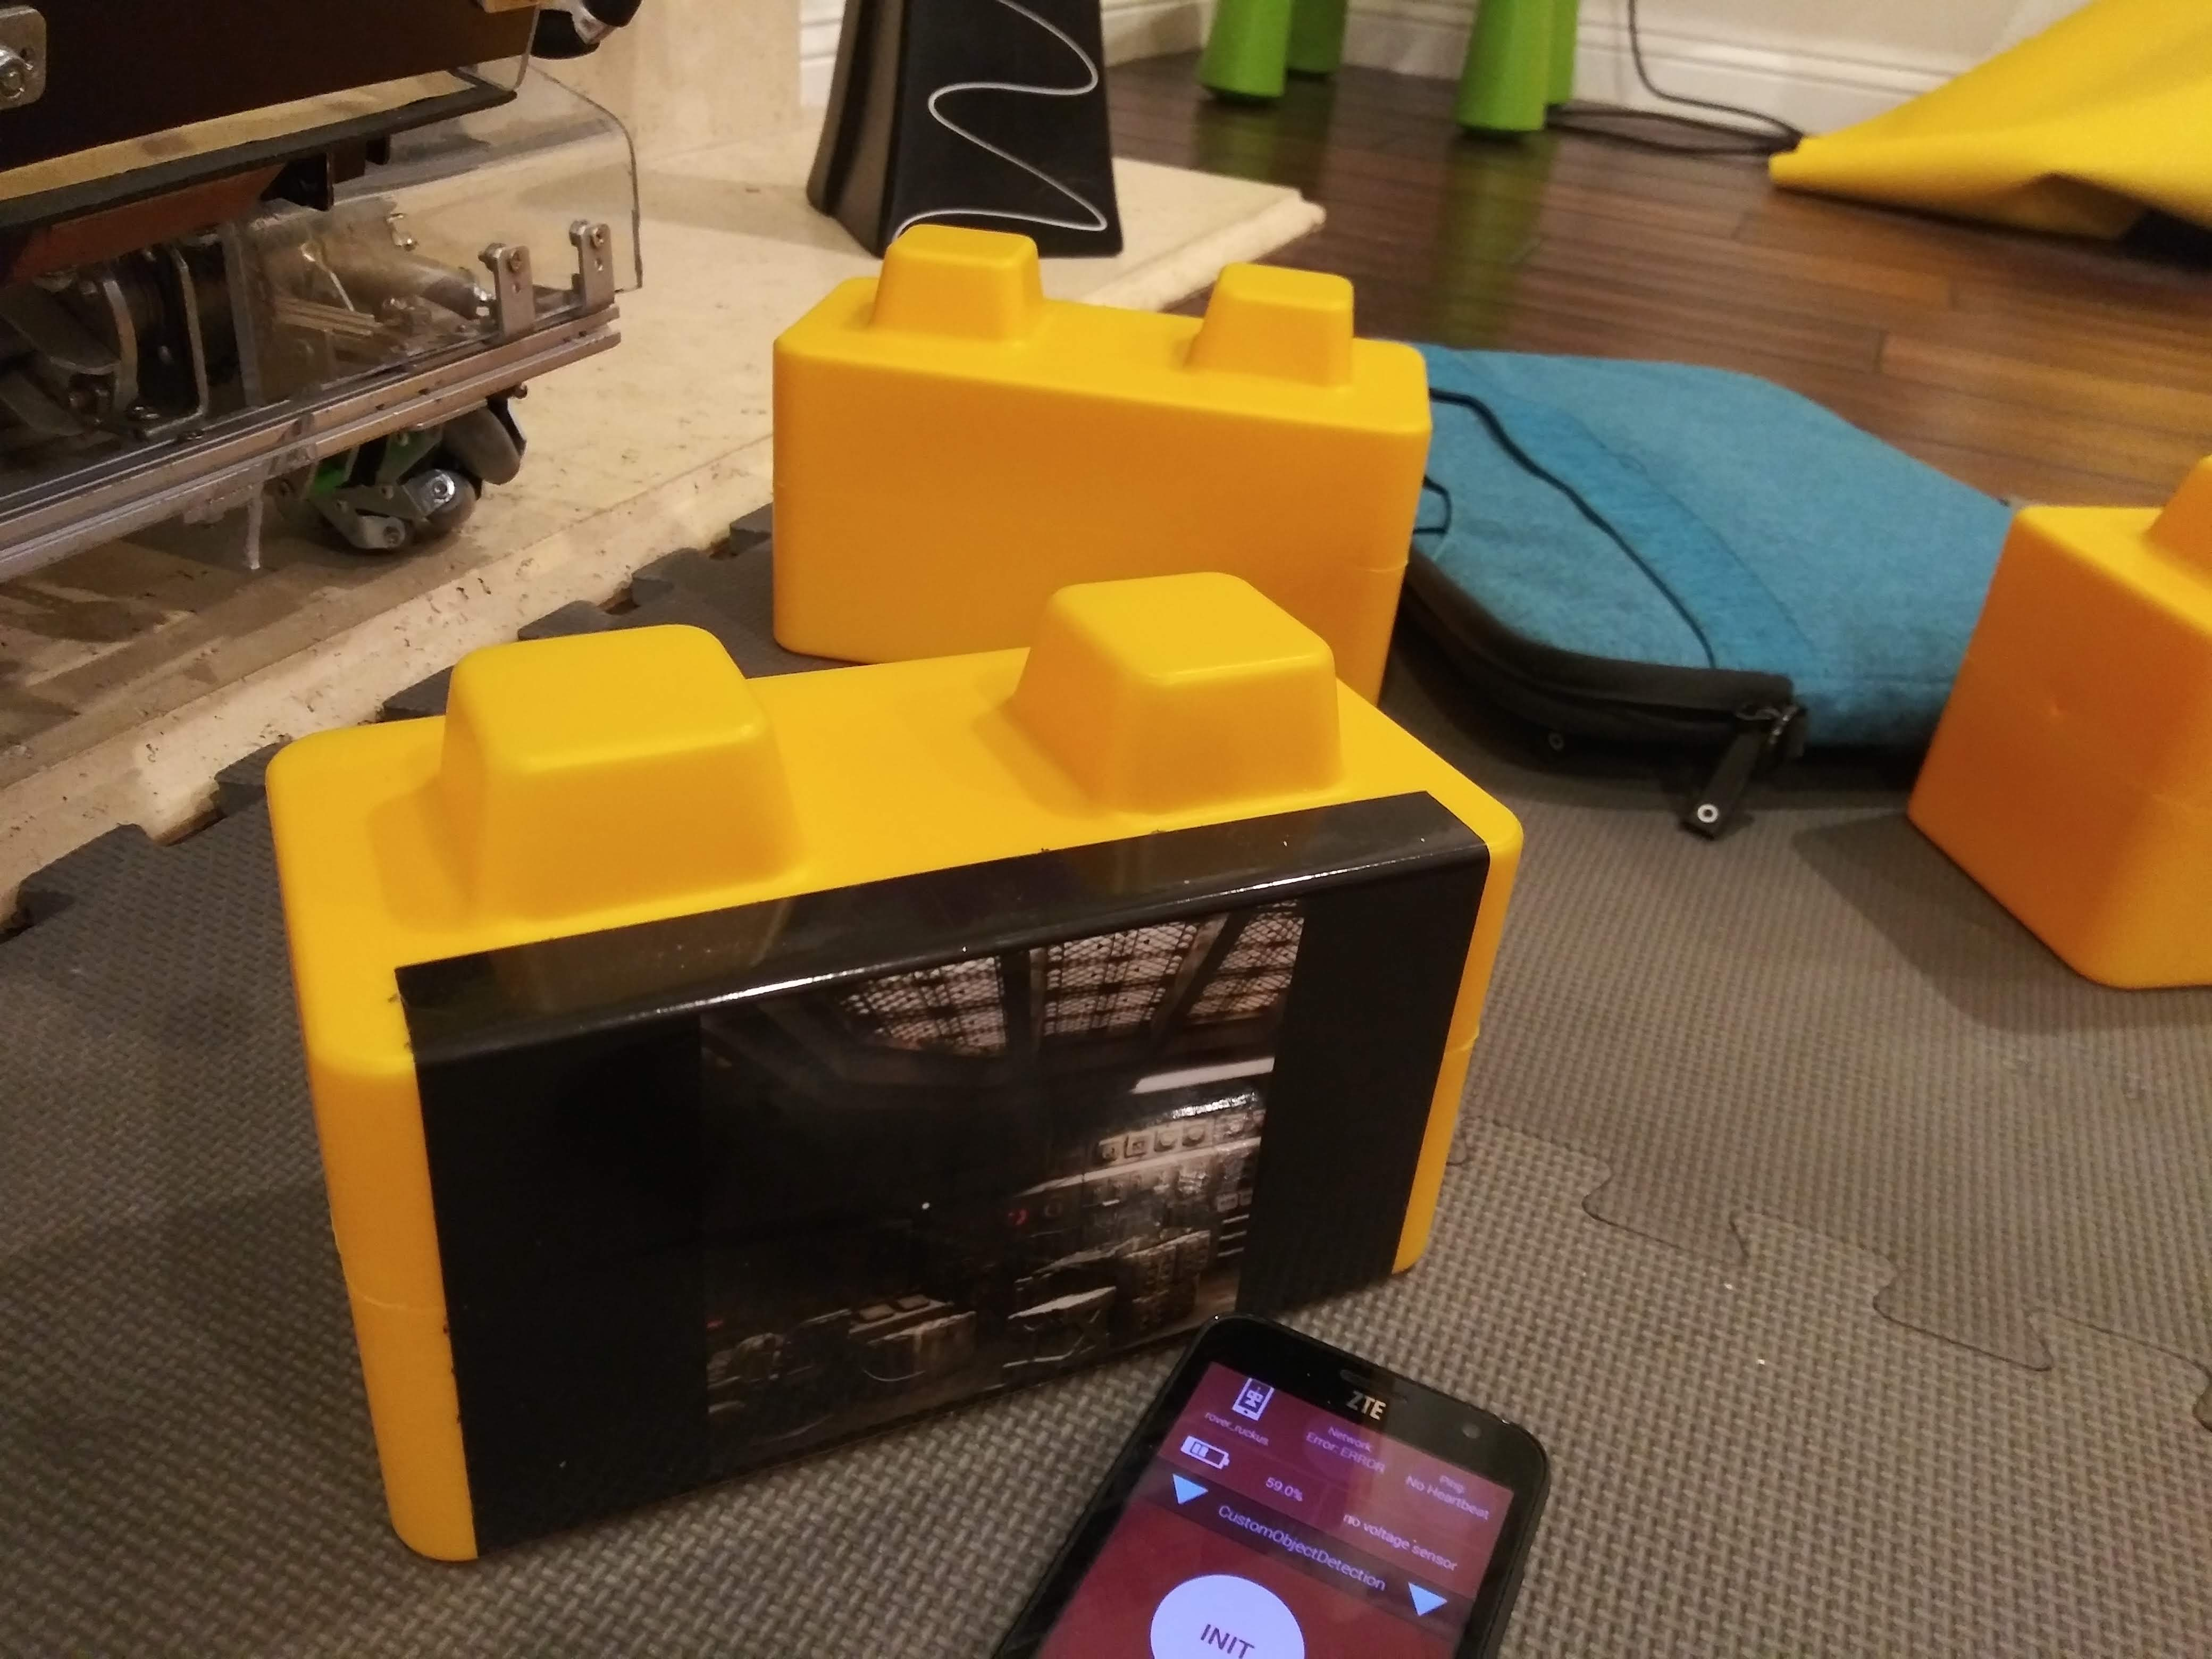skystone: (307, 798, 1501, 1424)
stone: (751, 307, 1426, 636)
